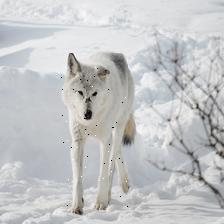WOLF: (59, 54, 127, 209)
